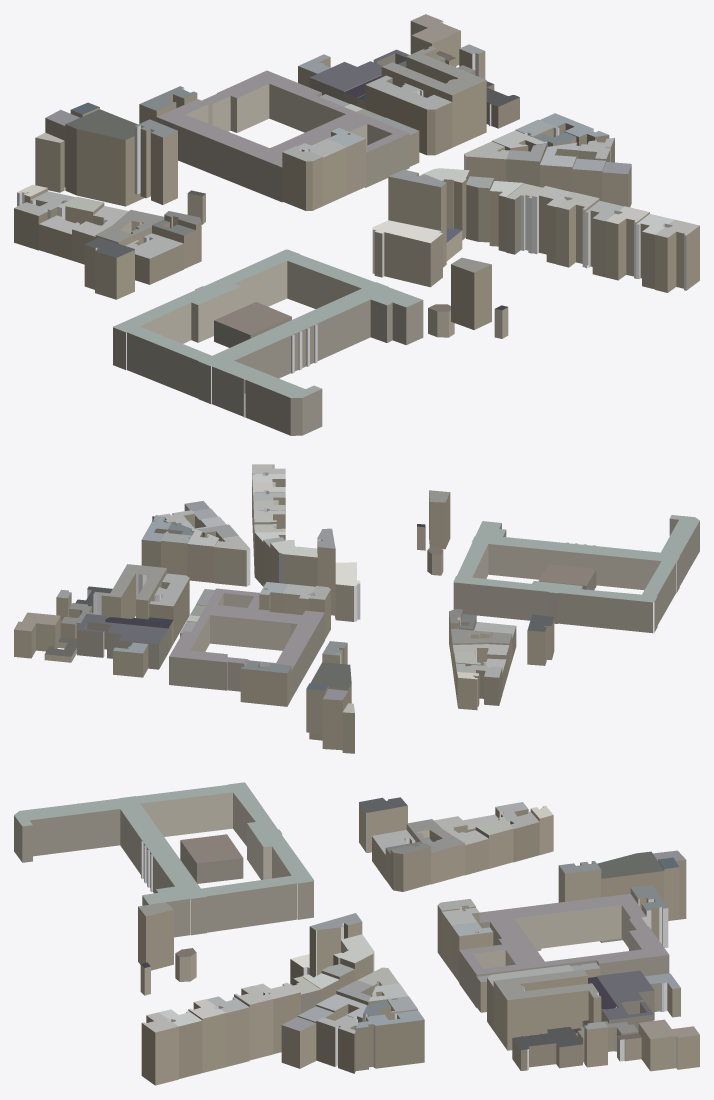
3 renders of one model, top to bottom at view 1: azimuth 30°, elevation 25°; view 2: azimuth 150°, elevation 25°; view 3: azimuth 270°, elevation 25°, orthographic. The views are drawn at different scales.
Parts seen in each view (by area): view 1: tuile; view 2: tuile; view 3: tuile.
Part boxes in pixels (box(x1,y1,x2,y2)): tuile: box(14, 14, 699, 435); tuile: box(14, 464, 699, 753); tuile: box(14, 782, 699, 1085).
Size of the model in its own units: 293 by 44.09 by 324.
